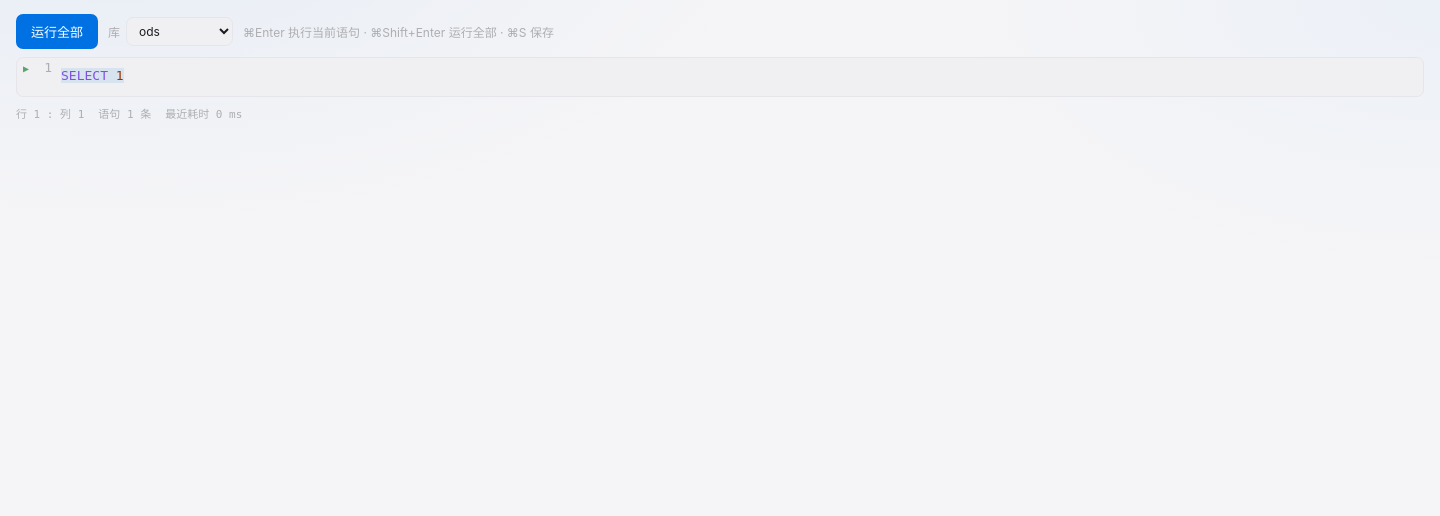
HiveSqlConsole › 执行失败:错误进错误区,语句标记置 fail
Click the button with test id "btn-hive-run" at (57, 32), box [16, 14, 98, 49]
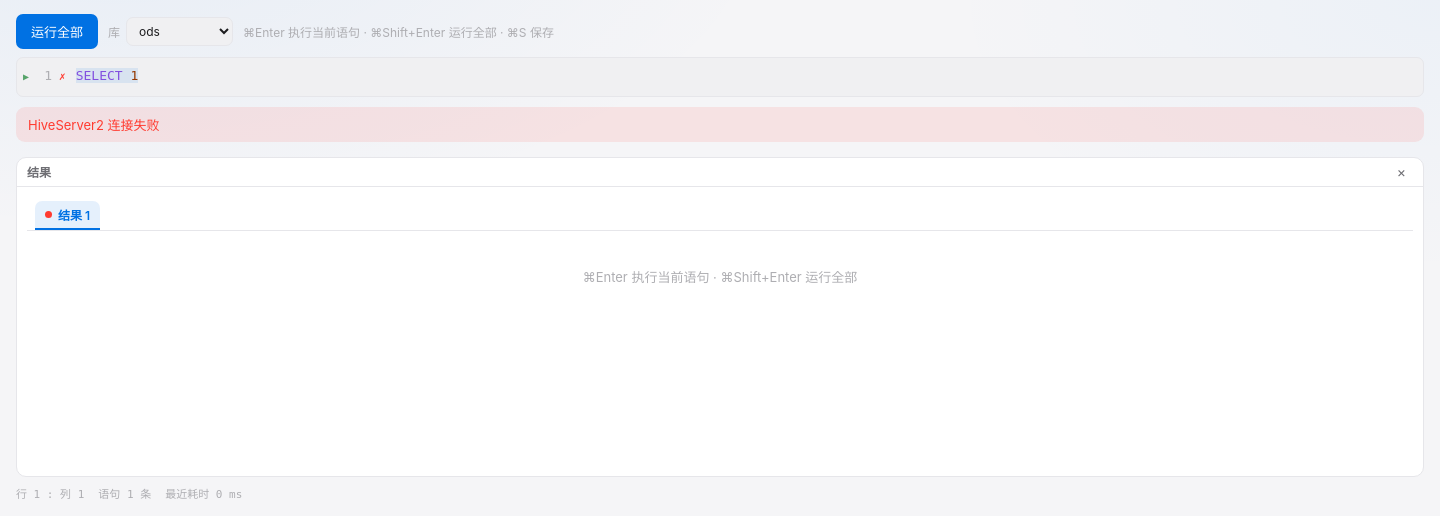
Check: the text with test id "hive-sql-error" reads "HiveServer2 连接失败", box [28, 116, 160, 132]
